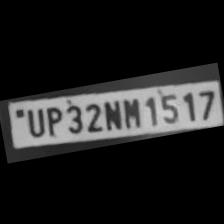1: (136, 90, 160, 127), (176, 87, 198, 121)
2: (78, 96, 104, 131)
3: (61, 100, 84, 134)
5: (153, 88, 180, 123)
7: (191, 84, 220, 120)
M: (118, 94, 142, 128)
N: (97, 94, 123, 131)
P: (40, 101, 64, 136)
U: (20, 104, 46, 138)
